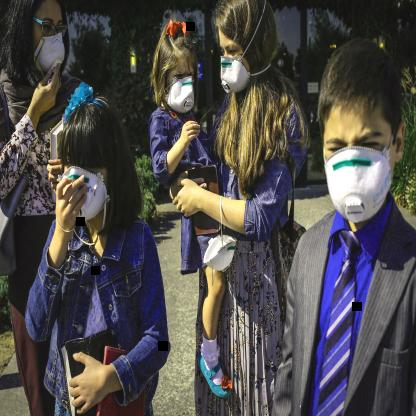mask: (319, 54, 409, 235), (58, 95, 129, 233), (216, 0, 282, 101), (4, 0, 74, 89), (153, 13, 203, 123)
